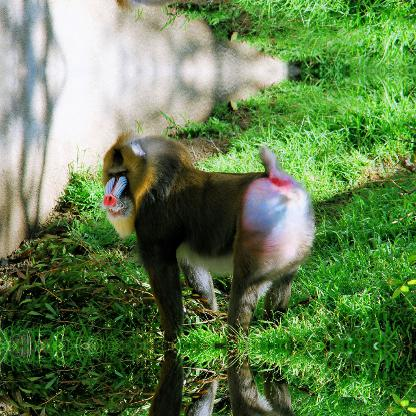Monkey: (102, 130, 315, 343), (102, 347, 316, 415)
